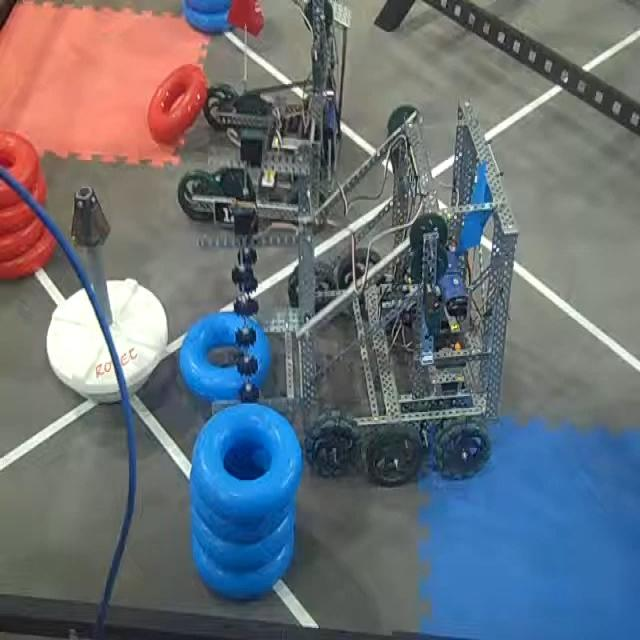Blue-Ring: (200, 403, 296, 513), (189, 469, 295, 542), (189, 309, 267, 397), (189, 507, 295, 567), (192, 535, 292, 595), (186, 12, 233, 32), (184, 0, 233, 10)
Red-Ring: (146, 66, 207, 141), (0, 168, 48, 238), (0, 226, 56, 282), (1, 129, 40, 207), (0, 207, 45, 262)
